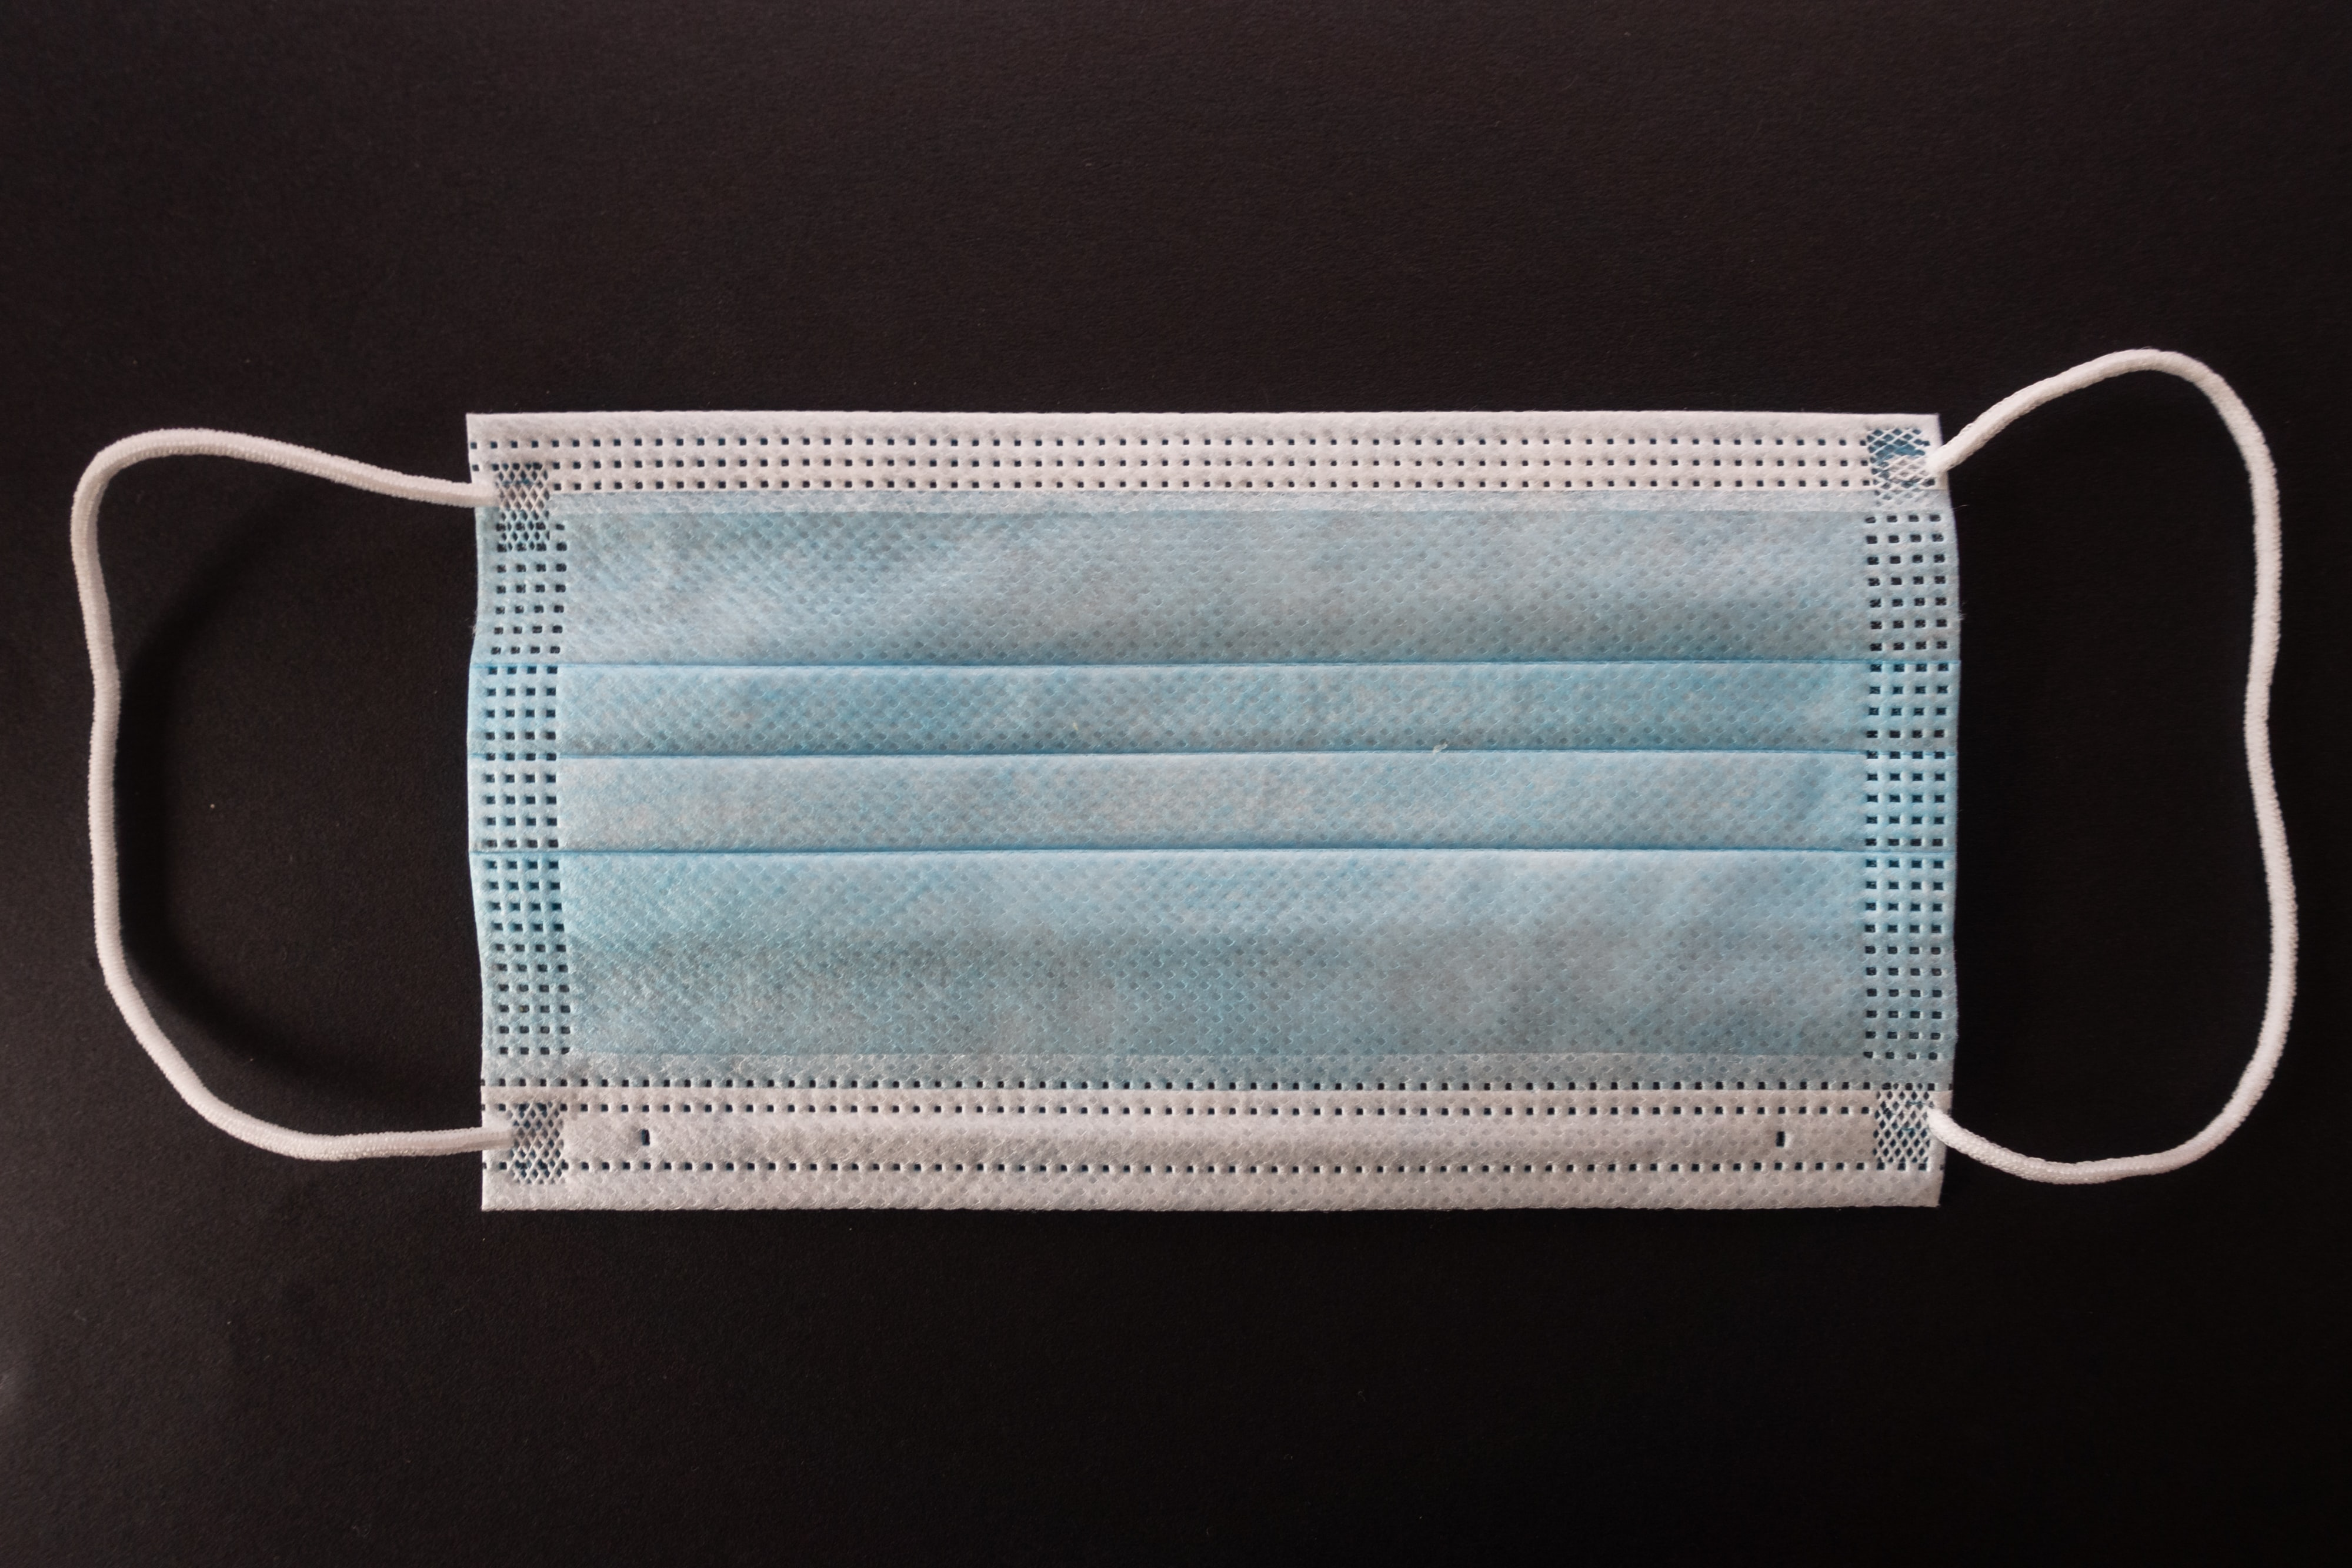mask: (54, 350, 2329, 1276)
